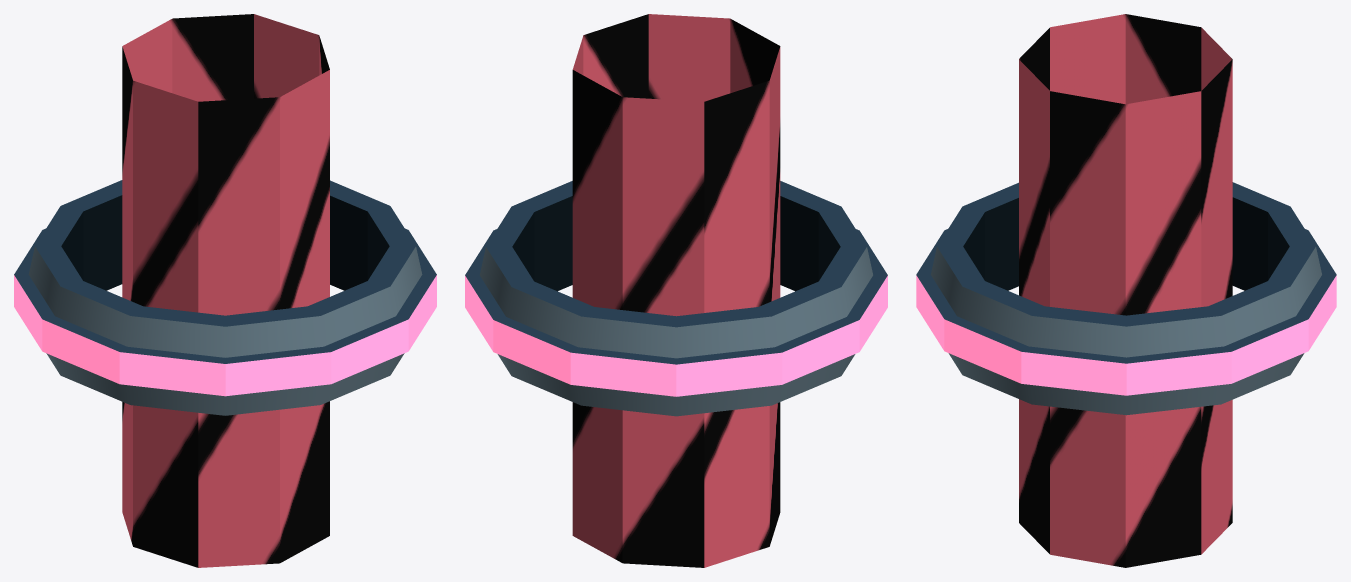
File: prop_environment_05.fbx
3 renders of one model, left to right at view 1: azimuth 30°, elevation 25°; view 2: azimuth 150°, elevation 25°; view 3: azimuth 270°, elevation 25°, orthographic.
Visible parts, largest first — view 1: prop_environment_05; view 2: prop_environment_05; view 3: prop_environment_05.
Boxes of the visible parts, x1,y1,x2,y2 form: prop_environment_05: (14,14,436,567); prop_environment_05: (465,14,887,567); prop_environment_05: (916,14,1336,567).
Bounding box in the file's own units: 222 × 270 × 222.
